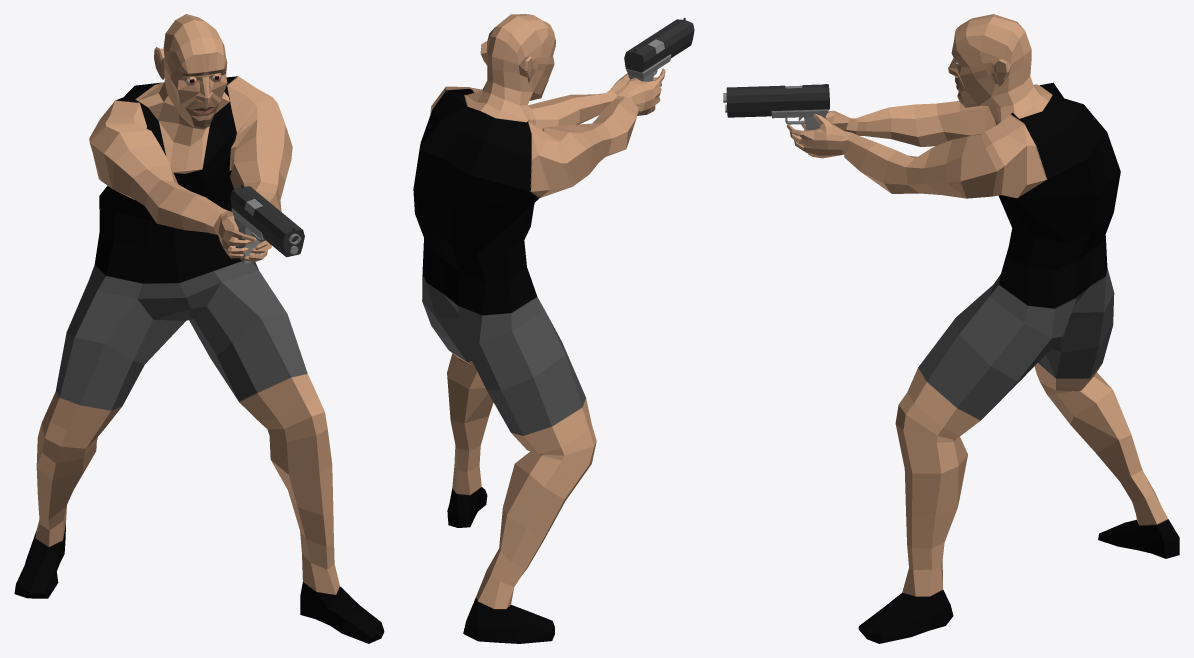
Rendered from PlayerShoot(3).obj.
The picture shows the model from 3 angles, left to right: view 1: azimuth 30°, elevation 25°; view 2: azimuth 150°, elevation 25°; view 3: azimuth 270°, elevation 25°; orthographic projection. The views are drawn at different scales.
Parts seen in each view (by area): view 1: Plane002, Box003; view 2: Plane002, Box003; view 3: Plane002, Box003.
Boxes of the visible parts, x1=… form: Plane002: x1=14, y1=14, x2=384, y2=643; Box003: x1=230, y1=184, x2=304, y2=263; Plane002: x1=413, y1=14, x2=665, y2=643; Box003: x1=624, y1=17, x2=694, y2=81; Plane002: x1=787, y1=14, x2=1179, y2=643; Box003: x1=723, y1=84, x2=829, y2=152.
Bounding box in the file's own units: 716 × 1665 × 1215.
